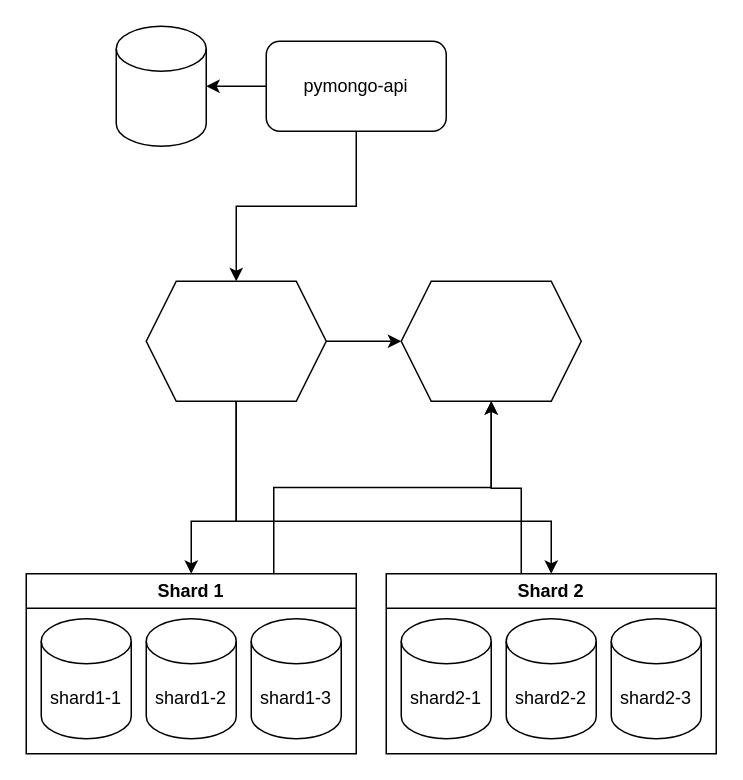
Image size: 743x780. Some labels were removed from this diagram. The shapes that lost their labels are listed below. From the top down, each one's box as (x1, y1, x2, y2) in pixels, then its label:
(115, 25, 206, 146): redis
(145, 280, 326, 401): router
(400, 280, 581, 401): configSrv
